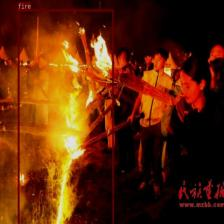fire: (17, 8, 113, 224)
